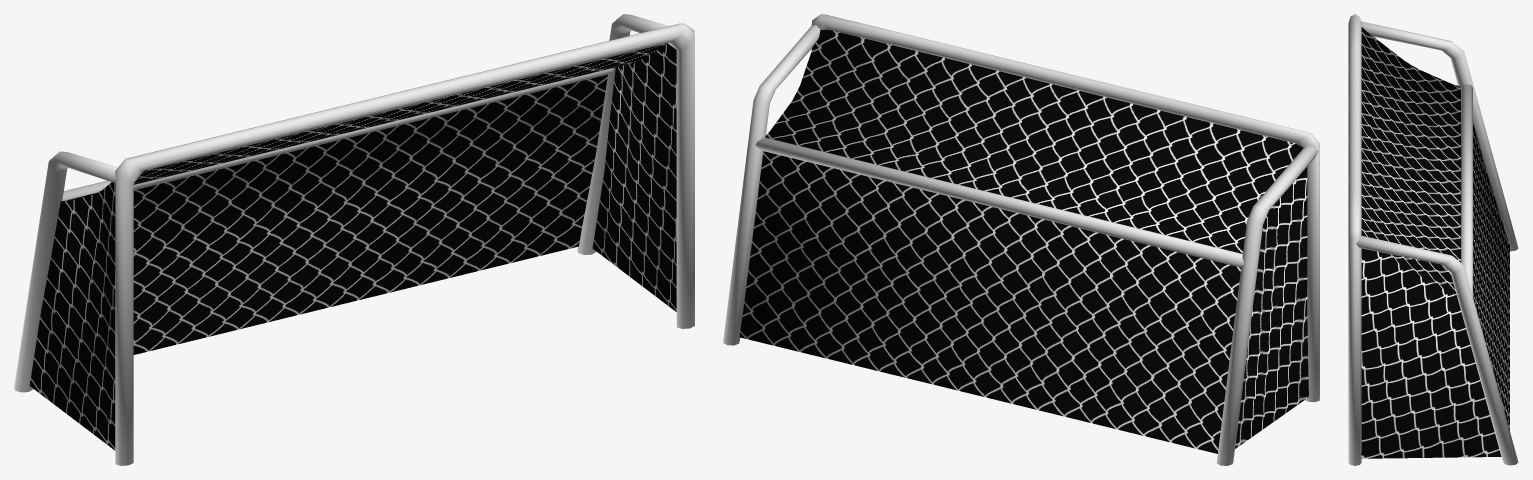
File: gates.fbx
3 views of the same model, side by side, from view 1: azimuth 30°, elevation 25°; view 2: azimuth 150°, elevation 25°; view 3: azimuth 270°, elevation 25° (orthographic). The views are drawn at different scales.
Parts seen in each view (by area): view 1: Plane, Cylinder, Cylinder.001, Cylinder.002; view 2: Plane, Cylinder.001, Cylinder, Cylinder.002; view 3: Plane, Cylinder.001, Cylinder, Cylinder.002.
Part boxes in pixels (x1=…): Plane: x1=29, y1=43, x2=676, y2=450; Cylinder: x1=115, y1=23, x2=694, y2=465; Cylinder.001: x1=14, y1=14, x2=668, y2=392; Cylinder.002: x1=62, y1=68, x2=613, y2=200; Plane: x1=739, y1=30, x2=1308, y2=453; Cylinder.001: x1=723, y1=25, x2=1318, y2=465; Cylinder: x1=811, y1=14, x2=1319, y2=402; Cylinder.002: x1=755, y1=137, x2=1243, y2=267; Plane: x1=1361, y1=27, x2=1509, y2=458; Cylinder.001: x1=1356, y1=21, x2=1518, y2=465; Cylinder: x1=1348, y1=14, x2=1361, y2=465; Cylinder.002: x1=1461, y1=84, x2=1472, y2=296.
Size of the model in its own units: 504 by 251 by 164.
